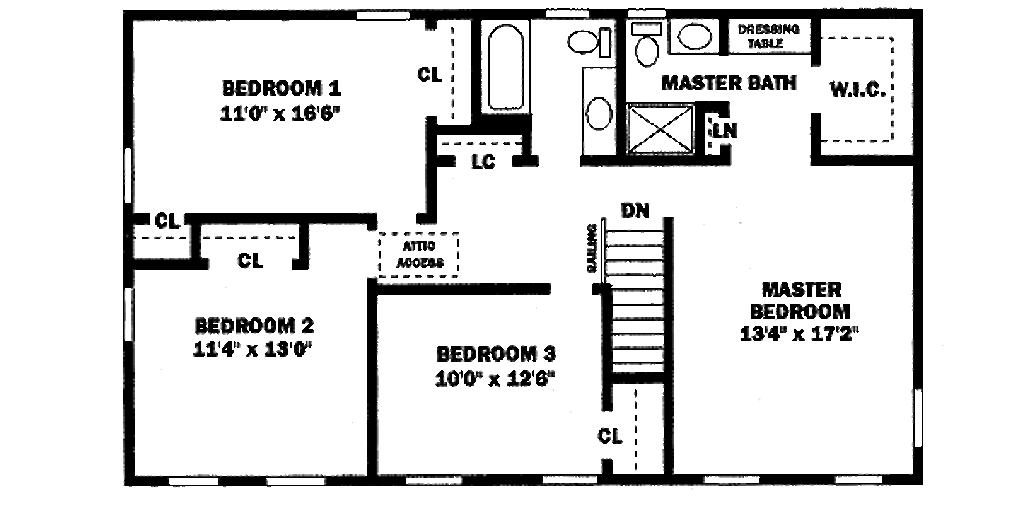large_sink: (628, 17, 667, 69), (561, 25, 617, 61)
small_sink: (578, 64, 619, 155), (665, 20, 724, 57)
stairs: (600, 201, 670, 381)
tub: (475, 17, 532, 119)
window: (539, 472, 603, 492), (703, 472, 765, 492), (260, 473, 329, 490), (910, 384, 926, 455), (405, 472, 468, 489), (537, 3, 593, 22), (164, 472, 224, 489), (120, 284, 137, 342), (121, 143, 136, 208), (353, 8, 417, 23), (833, 471, 886, 488)
